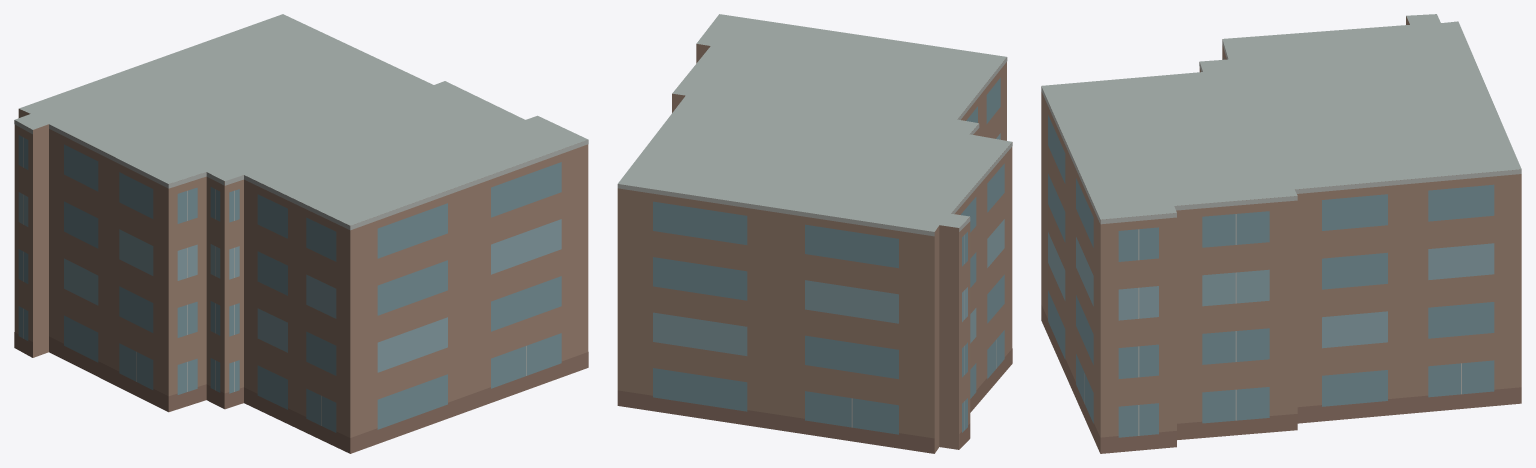
File: survey-upis-33012478.glb
3 views of the same model, side by side, from view 1: azimuth 30°, elevation 25°; view 2: azimuth 150°, elevation 25°; view 3: azimuth 270°, elevation 25° (orthographic). The views are drawn at different scales.
Visible parts, largest first — view 1: survey-upis-33012478.tmp; view 2: survey-upis-33012478.tmp; view 3: survey-upis-33012478.tmp.
Part boxes in pixels (x1,y1,x2,y2): survey-upis-33012478.tmp: (14, 14, 588, 453); survey-upis-33012478.tmp: (617, 14, 1012, 453); survey-upis-33012478.tmp: (1041, 14, 1521, 453).
Bounding box in the file's own units: 22.97 × 12.2 × 22.68.
